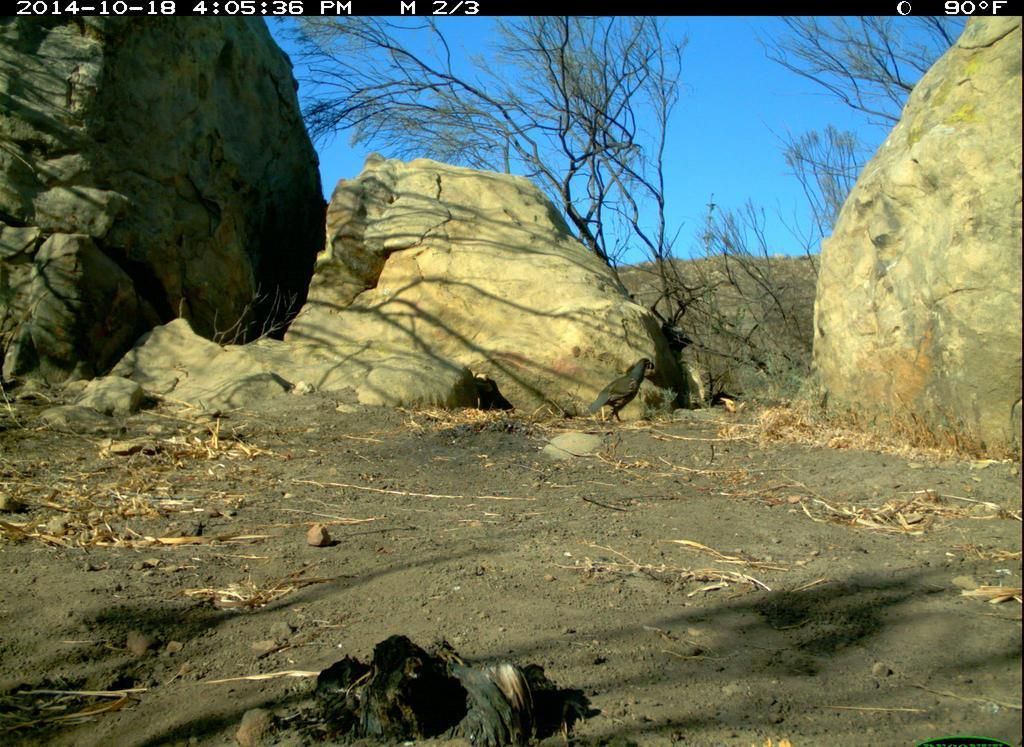bird: (570, 329, 674, 436)
